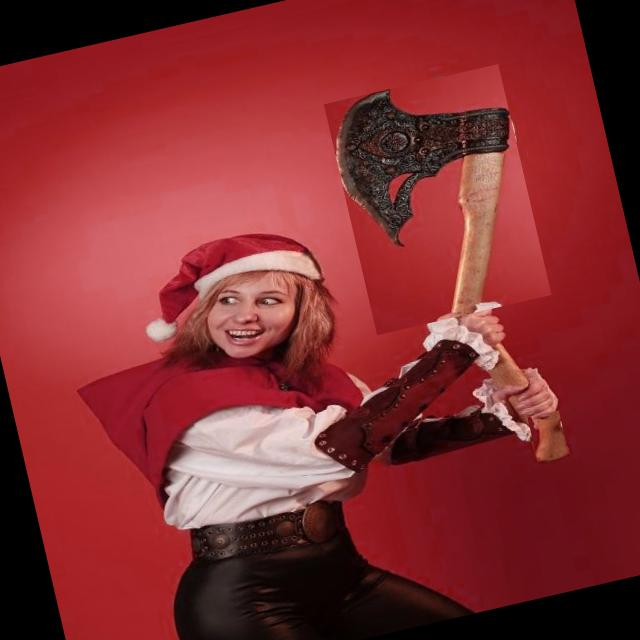Axe: (336, 90, 509, 314), (535, 410, 568, 461), (491, 346, 524, 385)
